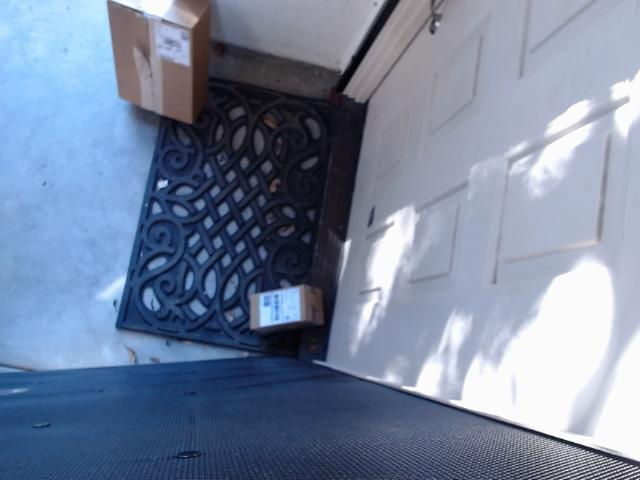box: (106, 0, 211, 125), (249, 283, 324, 336)
